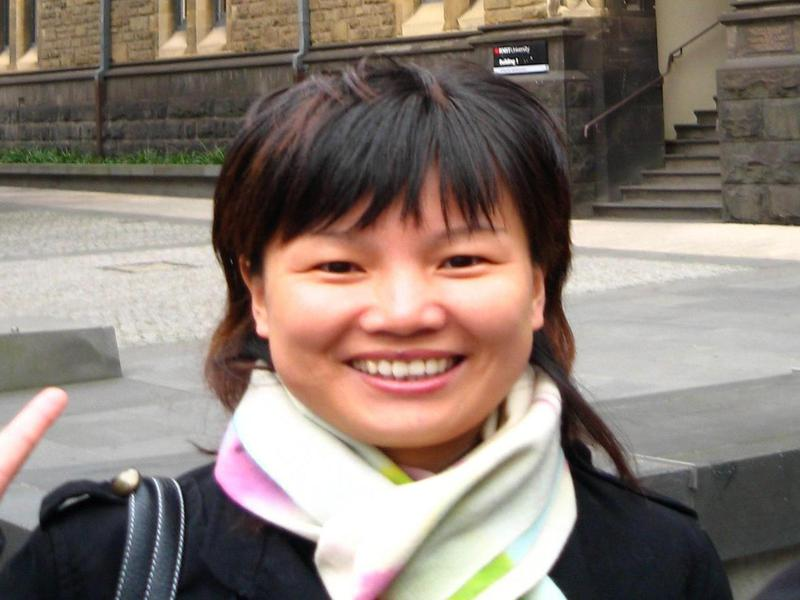person: (17, 53, 730, 600)
